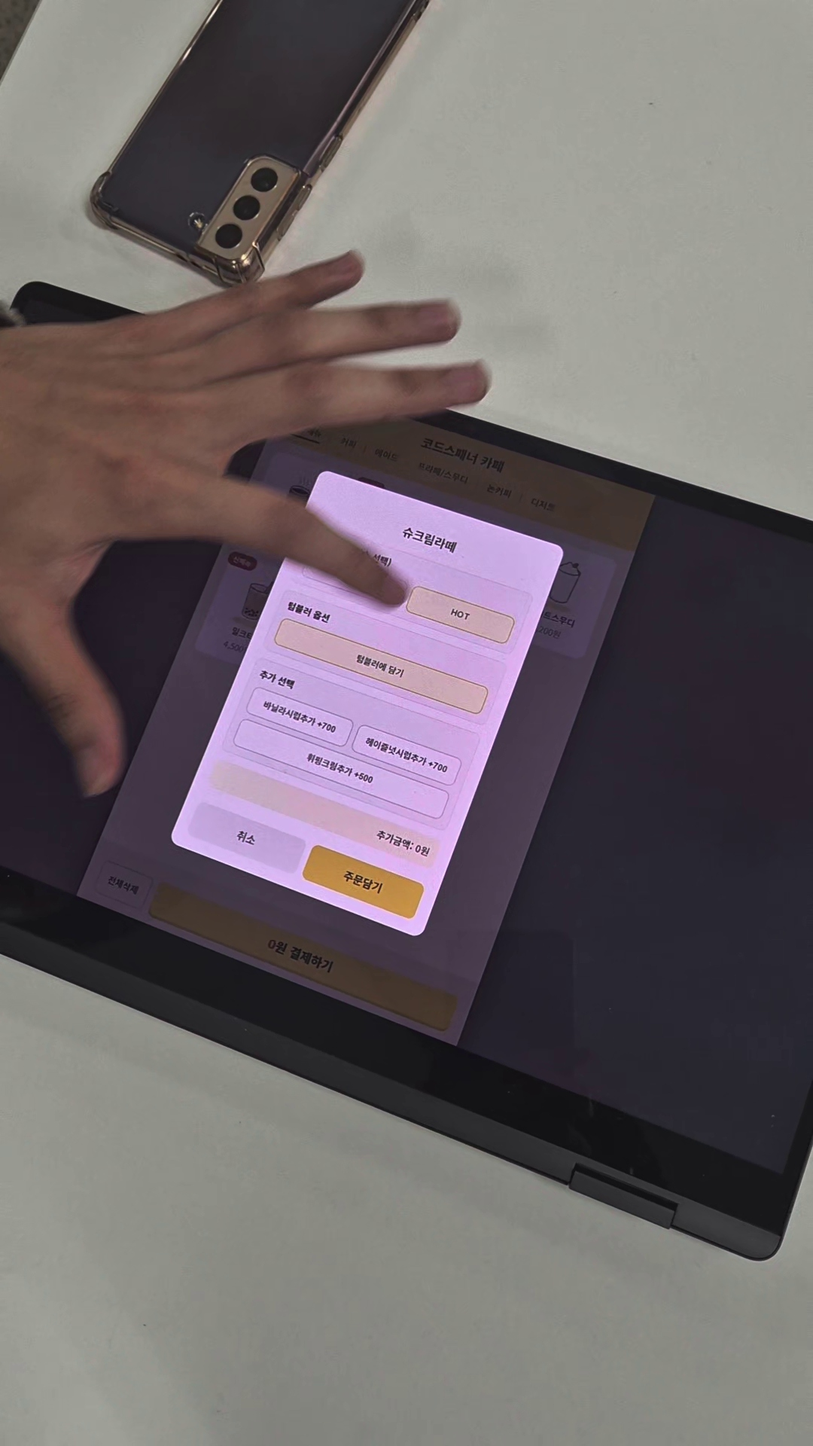action_button: (158, 460, 565, 950), (297, 842, 427, 924), (184, 799, 311, 877)
menu_name: (389, 515, 466, 559)
option_button: (266, 612, 493, 719), (228, 717, 453, 823), (348, 722, 465, 790), (243, 683, 356, 749), (401, 583, 517, 647)
